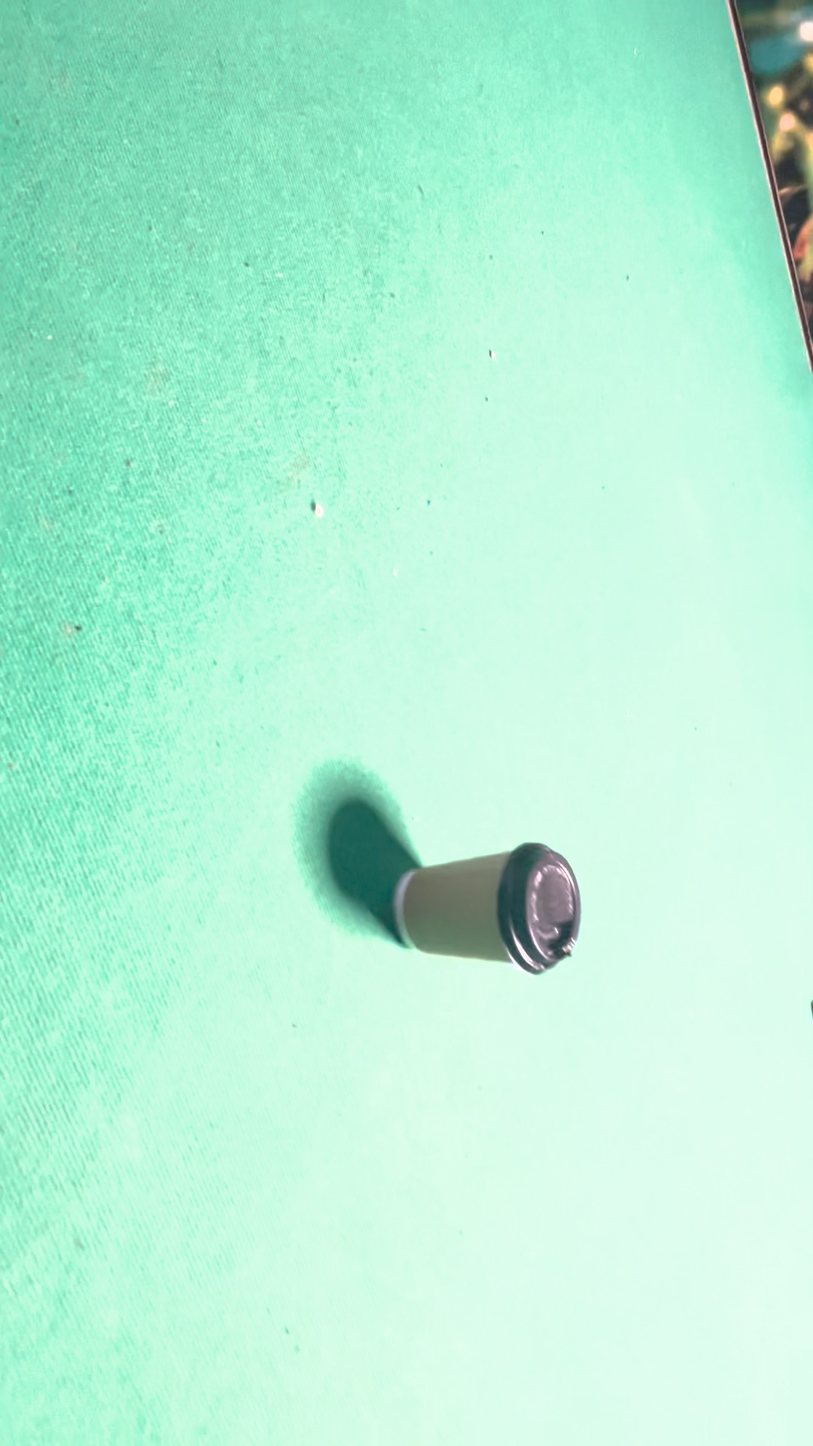cup: (402, 701, 477, 1066)
